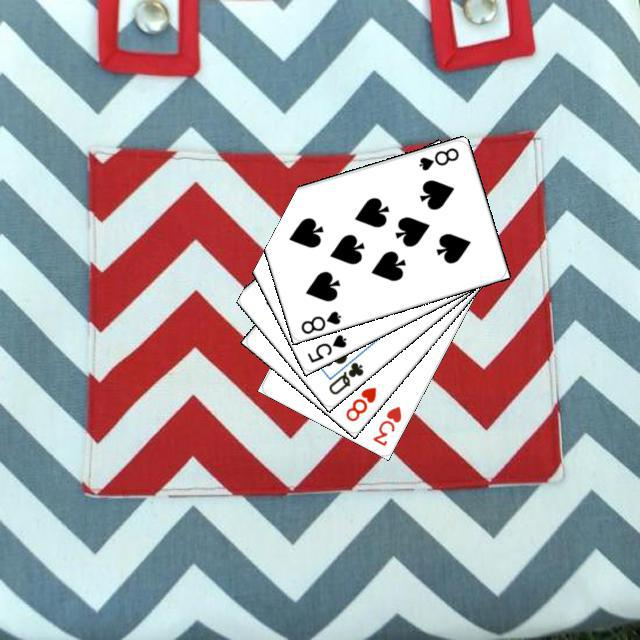3h: (368, 401, 403, 448)
5s: (302, 329, 348, 364)
8h: (340, 382, 378, 423)
8s: (413, 143, 461, 172), (296, 306, 343, 335)
Qc: (322, 349, 365, 397)
